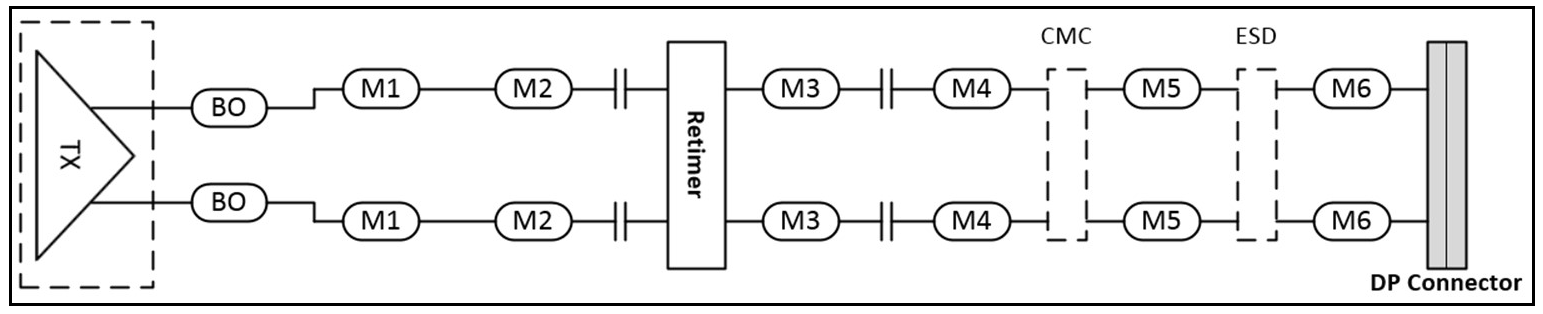capacitor: (858, 46, 914, 124), (868, 183, 906, 258), (598, 59, 637, 118), (606, 194, 634, 249)
dotted_rectangle: (12, 18, 159, 294), (1042, 65, 1095, 249), (1233, 65, 1280, 250)
oval: (187, 83, 272, 138), (494, 202, 578, 247), (932, 200, 1016, 243), (494, 67, 573, 112), (764, 200, 843, 245), (1312, 199, 1394, 242), (1122, 201, 1208, 242), (762, 67, 841, 110), (934, 69, 1012, 110), (1123, 70, 1199, 111), (343, 68, 420, 108), (343, 201, 420, 240), (190, 182, 267, 220), (1316, 70, 1391, 104)
rectangle: (662, 38, 732, 275), (1423, 38, 1474, 272)
triangle: (30, 45, 139, 274)
